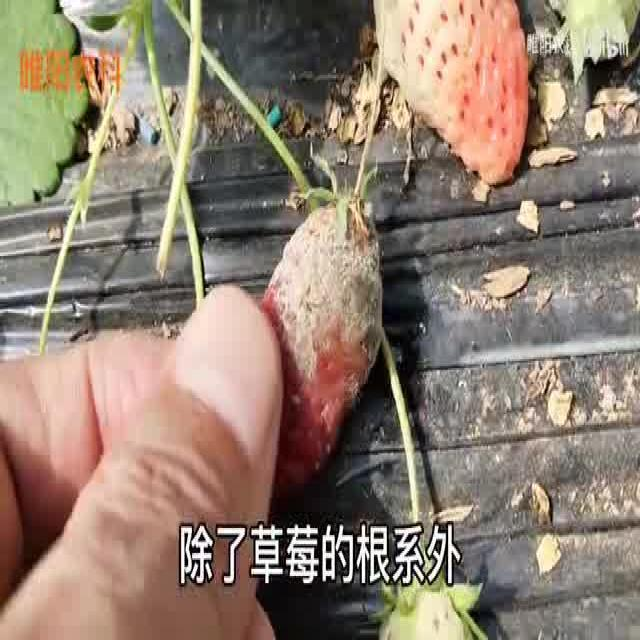Fruta sana: (369, 0, 532, 186), (548, 0, 640, 85)
Moho gris: (255, 201, 384, 507)
